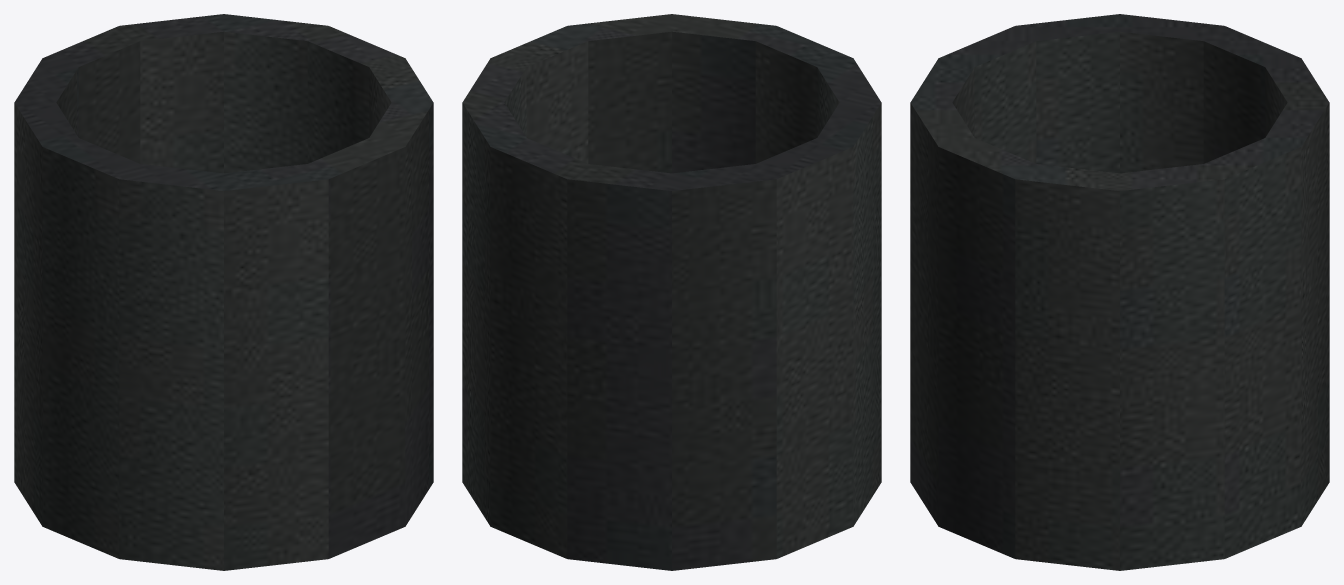
The picture shows the model from 3 angles, left to right: view 1: azimuth 30°, elevation 25°; view 2: azimuth 150°, elevation 25°; view 3: azimuth 270°, elevation 25°; orthographic projection.
Visible parts, largest first — view 1: Test; view 2: Test; view 3: Test.
Part boxes in pixels (x1,y1,x2,y2): Test: (14,14,433,570); Test: (462,14,881,570); Test: (910,14,1329,570).
Size of the model in its own units: 0.1 by 0.1 by 0.1.
1 material, 1 textured.
